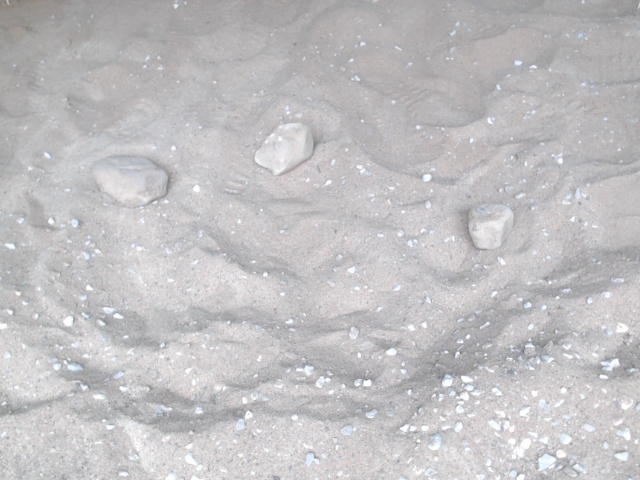rock: (86, 151, 173, 213), (250, 117, 317, 182), (463, 199, 518, 255)
